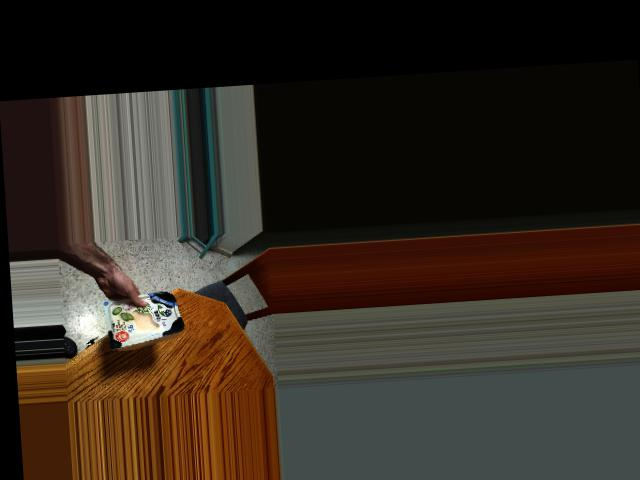cheese: (104, 288, 184, 350)
